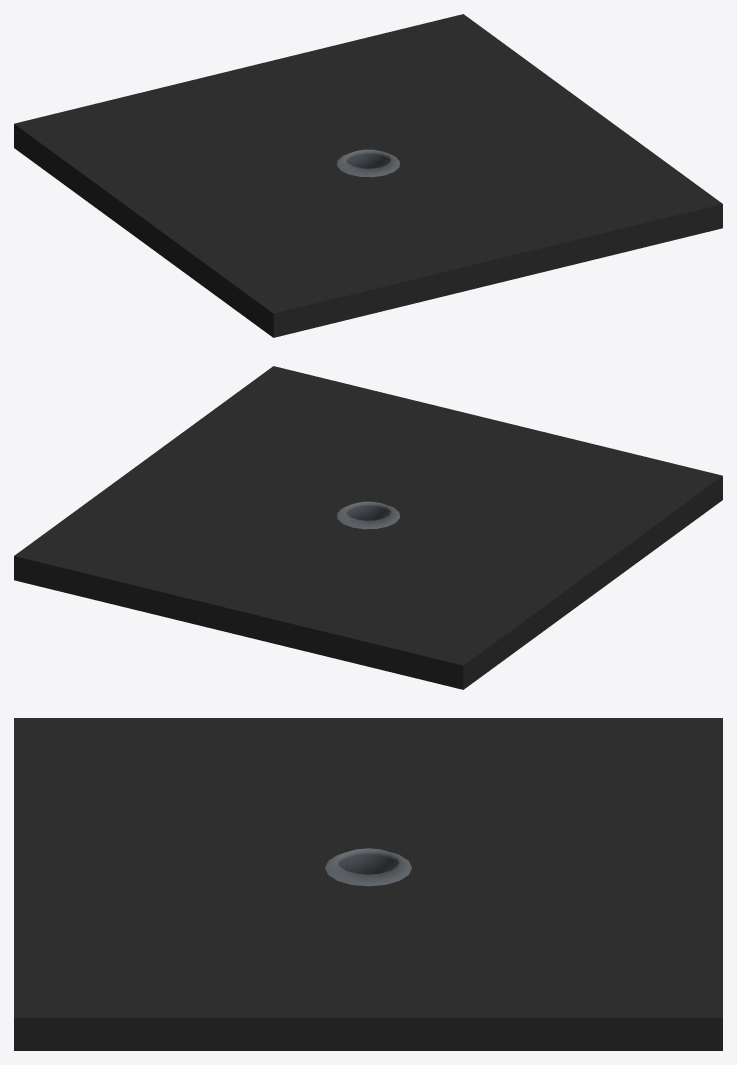
The model's file is SlotTinyHole.fbx.
3 renders of one model, top to bottom at view 1: azimuth 30°, elevation 25°; view 2: azimuth 150°, elevation 25°; view 3: azimuth 270°, elevation 25°, orthographic. The views are drawn at different scales.
Parts seen in each view (by area): view 1: LaparoscopicHoleSlot; view 2: LaparoscopicHoleSlot; view 3: LaparoscopicHoleSlot.
Boxes of the visible parts, x1,y1,x2,y2 form: LaparoscopicHoleSlot: (14, 14, 722, 337); LaparoscopicHoleSlot: (14, 366, 722, 689); LaparoscopicHoleSlot: (14, 718, 722, 1050).
Bounding box in the file's own units: 0.1 × 0.00617 × 0.1.
